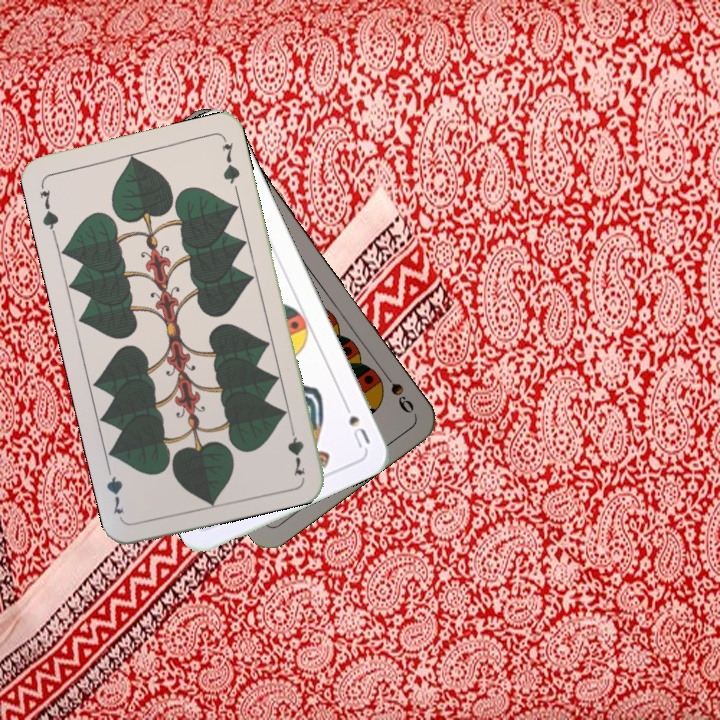G7: (35, 180, 61, 238), (283, 419, 308, 479)
S9: (376, 365, 417, 417)
SU: (338, 395, 373, 451)
